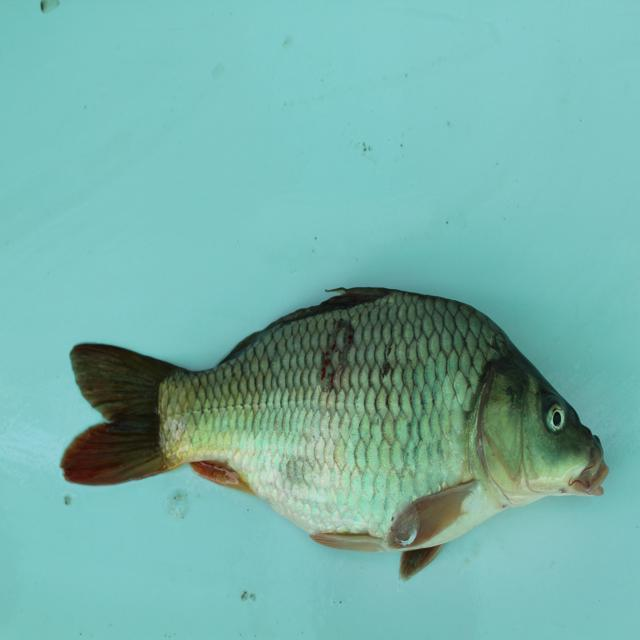CommonCarp: (53, 297, 621, 589)
